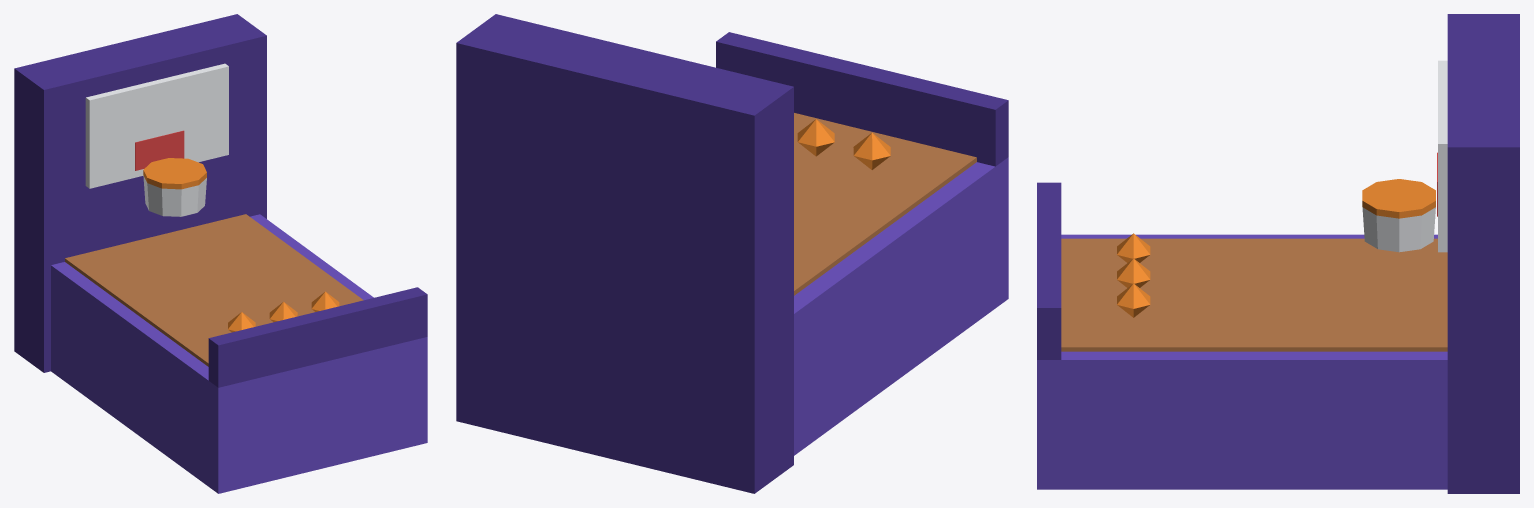
Rendered from basketball-game.glb.
The picture shows the model from 3 angles, left to right: view 1: azimuth 30°, elevation 25°; view 2: azimuth 150°, elevation 25°; view 3: azimuth 270°, elevation 25°; orthographic projection. The views are drawn at different scales.
Parts seen in each view (by area): view 1: basketball-game; view 2: basketball-game; view 3: basketball-game.
Part boxes in pixels (left/top/right/bottom): basketball-game: left=14, top=14, right=427, bottom=493; basketball-game: left=456, top=14, right=1008, bottom=493; basketball-game: left=1037, top=14, right=1519, bottom=493.
Size of the model in its own units: 0.66 by 0.8 by 1.01.
1 material, 1 textured.
